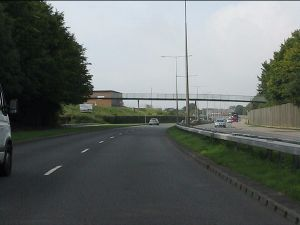bridge: (88, 94, 265, 103)
